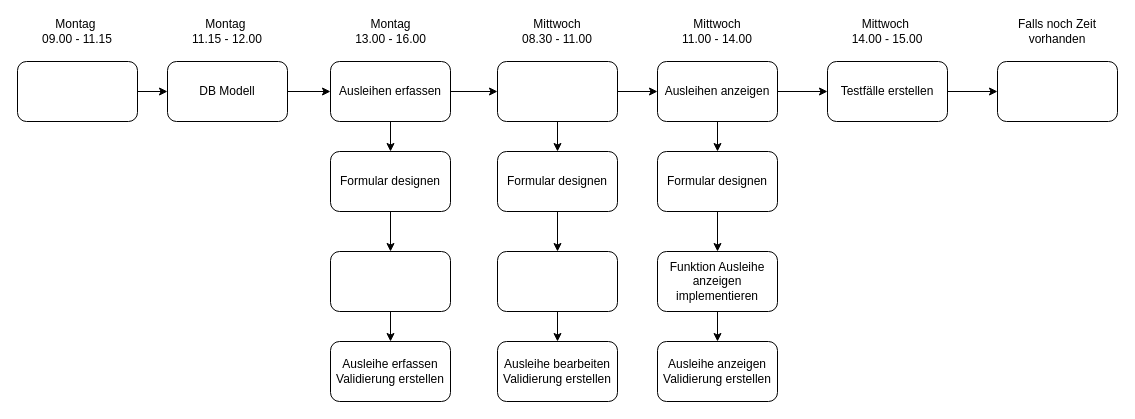
Image size: 1135x419. Some labels were removed from this diagram. Each missing label, with the centre of its shape:
"Ausleihen bearbeiten" goes at (x=557, y=91).
"Funktion Ausleihen bearbeiten implementieren" goes at (x=557, y=281).
"Funktion Ausleihen erfassen implementieren" goes at (x=390, y=281).
"Konzept erstellen" goes at (x=77, y=91).
"Zusatzauftrag erledigen" goes at (x=1057, y=91).
